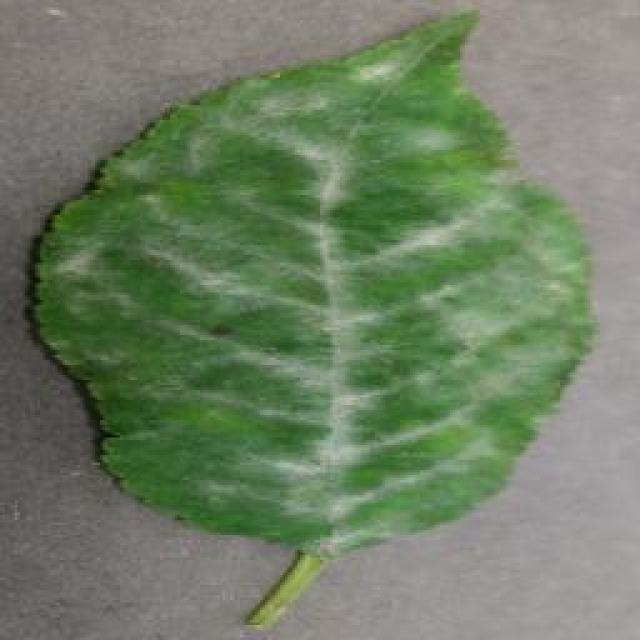Cherry___Powdery_mildew: (138, 84, 528, 538)
